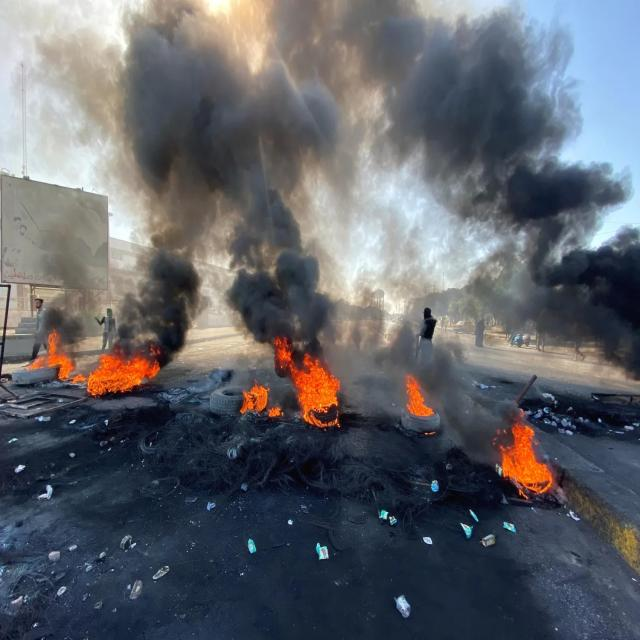fire: (499, 423, 552, 501), (87, 353, 159, 395), (293, 366, 339, 426), (49, 332, 74, 380)
